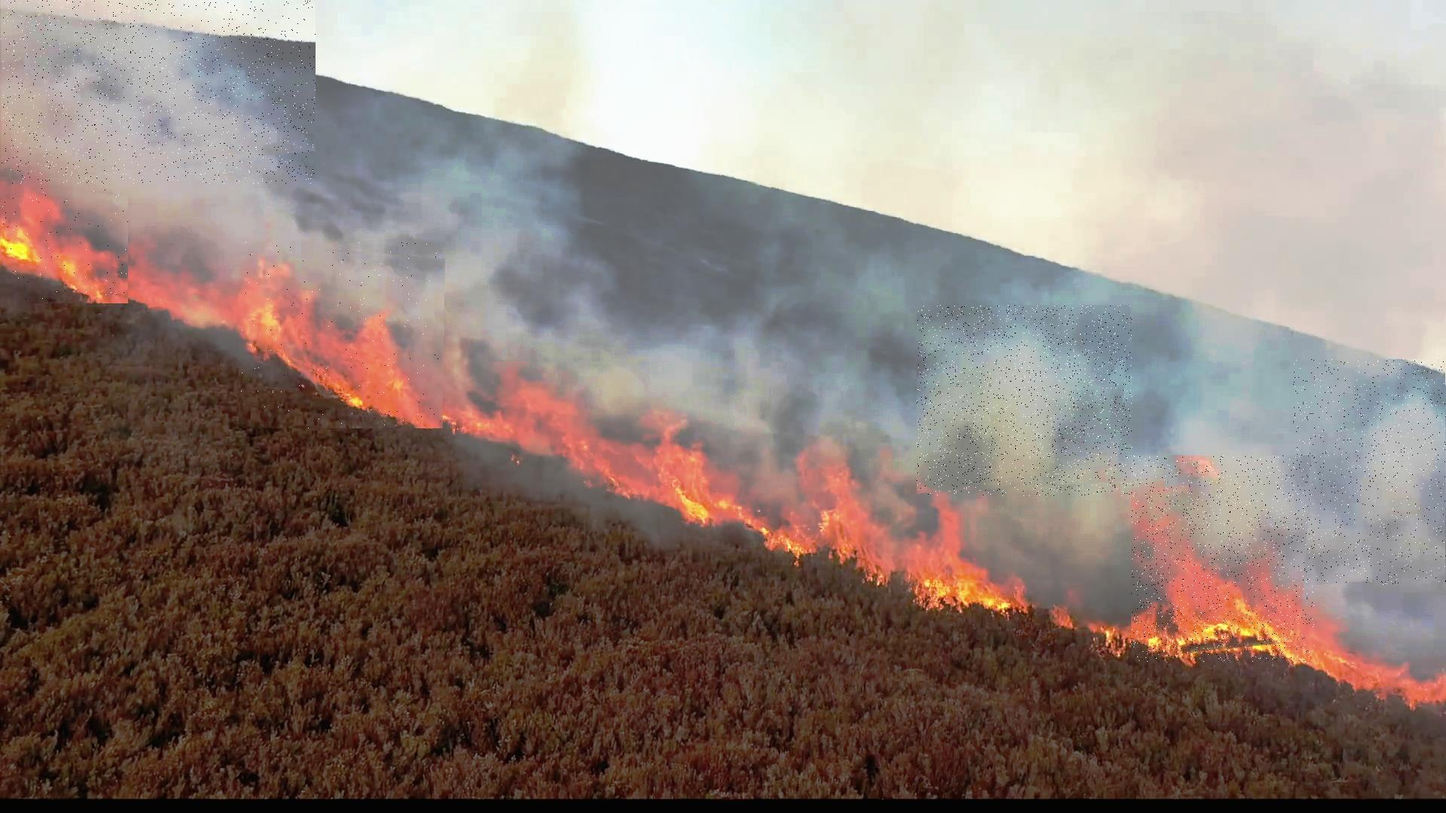fire: (239, 242, 445, 428), (1132, 456, 1315, 662), (1, 186, 128, 306)
smoke: (1, 0, 316, 184), (917, 306, 1132, 497), (1293, 359, 1446, 585)
